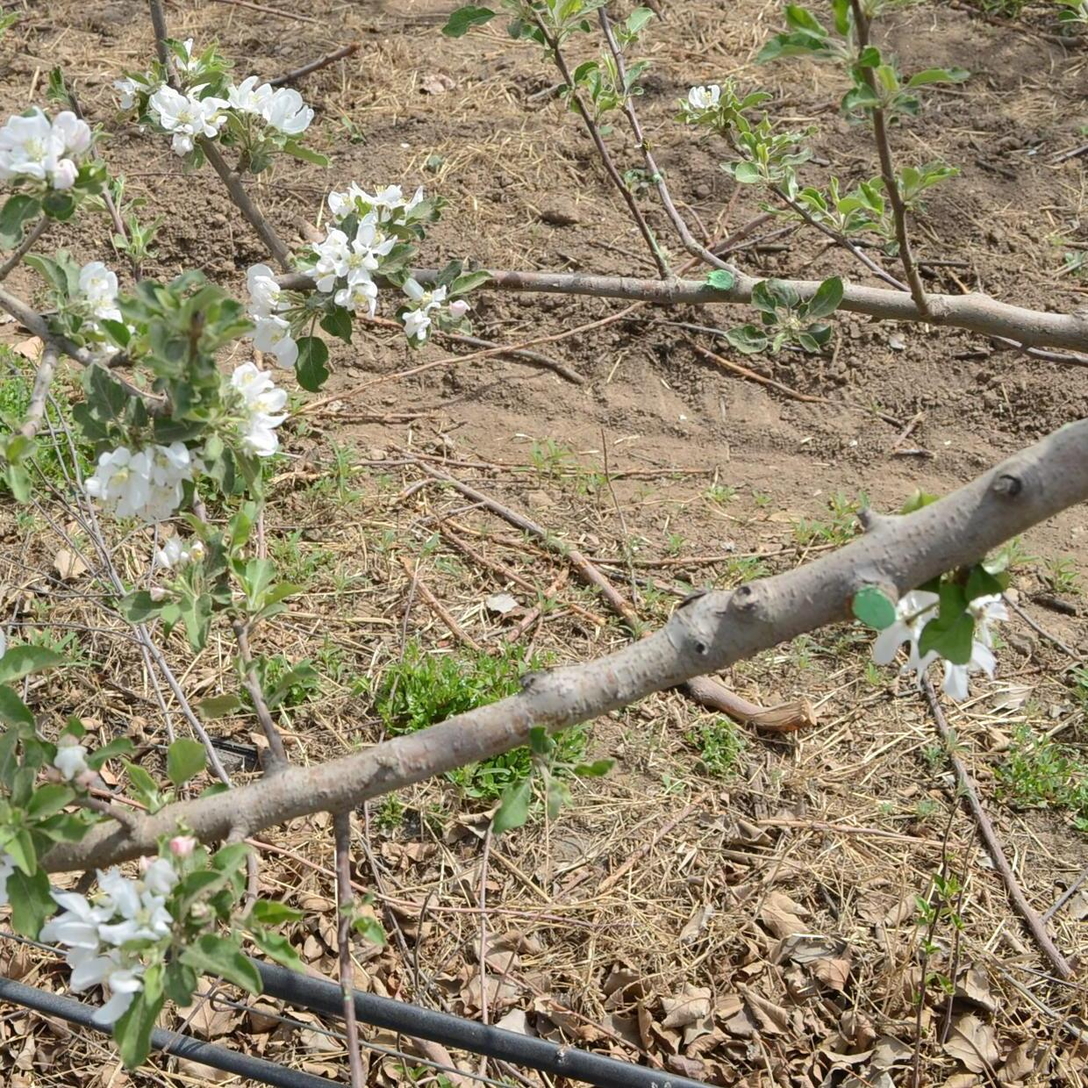apple_flower: (39, 857, 180, 1025), (307, 184, 427, 310), (117, 75, 314, 136), (86, 441, 193, 522), (0, 104, 91, 189), (946, 595, 1013, 701), (875, 589, 944, 676), (229, 361, 290, 456), (247, 261, 298, 366), (403, 276, 471, 341), (687, 83, 723, 110)
